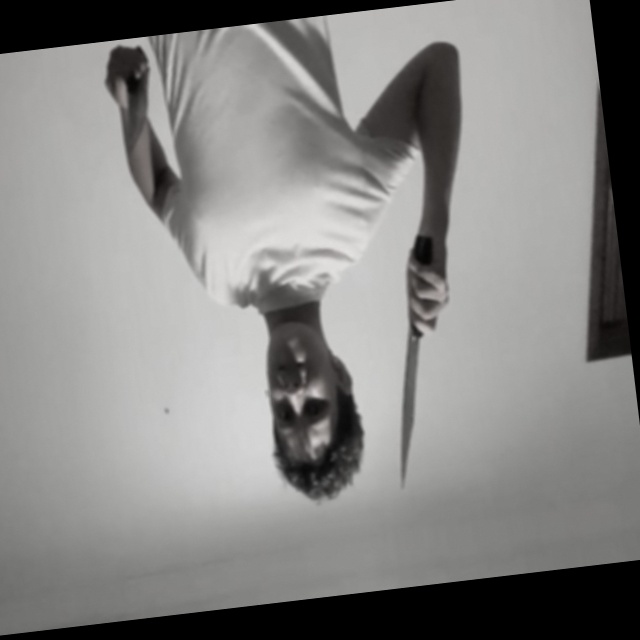Sharp-Object: (385, 329, 435, 490), (120, 67, 158, 150)
